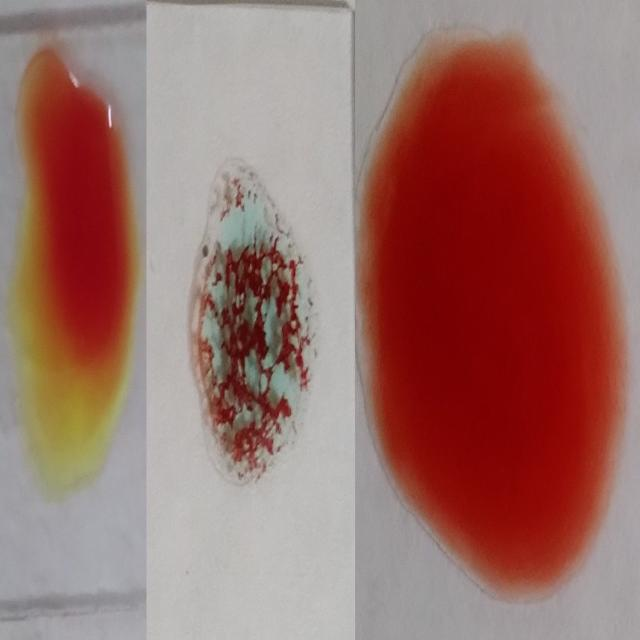A: (192, 163, 316, 500)
